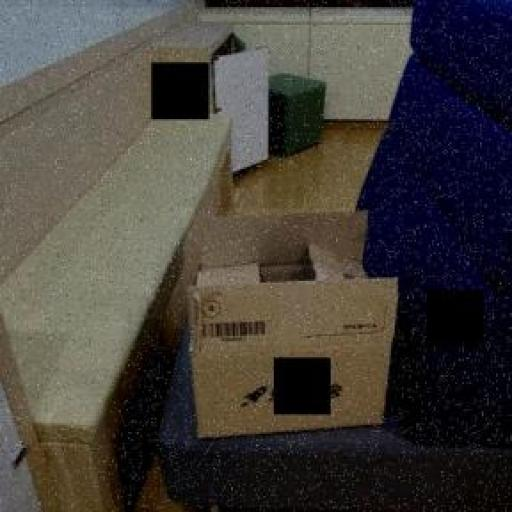box: (184, 208, 404, 444)
